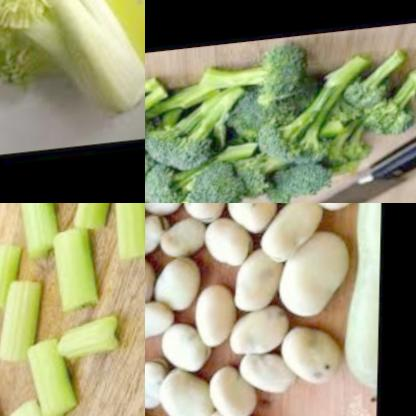beans: (145, 203, 345, 416), (338, 203, 382, 416), (145, 299, 190, 416)
broccoli: (145, 30, 416, 203)
celery: (0, 0, 145, 154), (51, 224, 106, 322), (23, 333, 80, 416), (0, 273, 46, 371), (55, 319, 123, 370), (17, 203, 62, 264), (112, 203, 145, 273), (69, 203, 124, 240), (0, 236, 25, 317)
